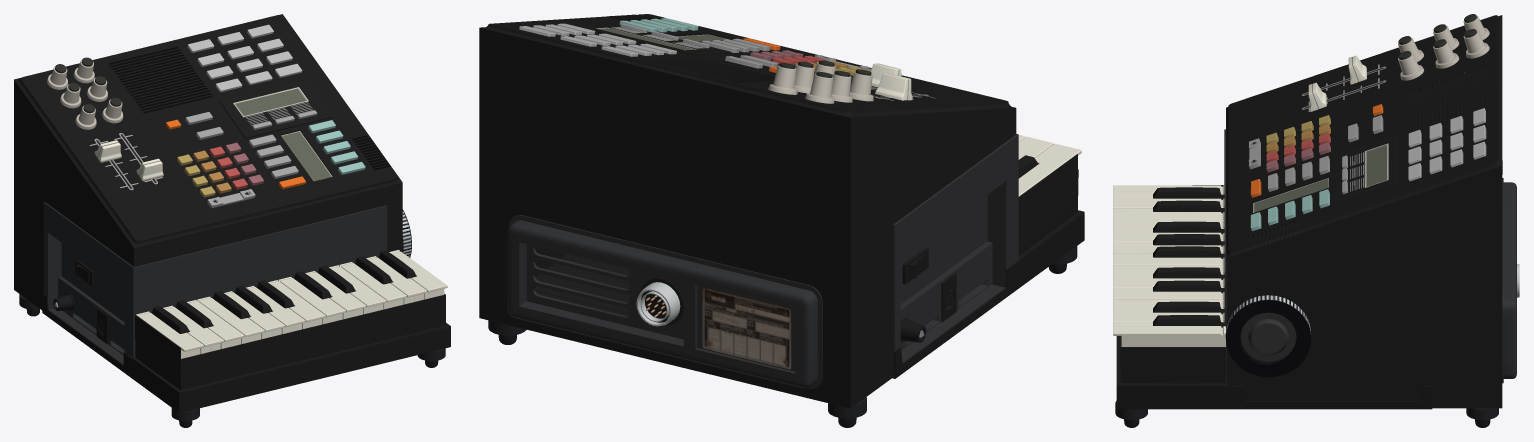
Rendered from Tom Milnes - RX404.glb.
3 renders of one model, left to right at view 1: azimuth 30°, elevation 25°; view 2: azimuth 150°, elevation 25°; view 3: azimuth 270°, elevation 25°, orthographic. The views are drawn at different scales.
Parts seen in each view (by area): view 1: phonesynth joined2; view 2: phonesynth joined2; view 3: phonesynth joined2.
Part boxes in pixels (x1=…): phonesynth joined2: x1=14, y1=14, x2=450, y2=427; phonesynth joined2: x1=479, y1=14, x2=1084, y2=427; phonesynth joined2: x1=1113, y1=14, x2=1519, y2=427.
Bounding box in the file's own units: 1.52 × 1.27 × 1.64.
1 material, 1 textured.
